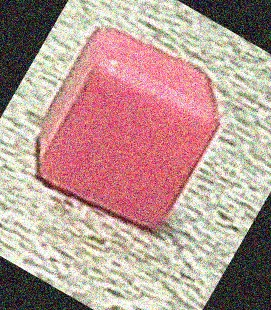red_cube: (34, 18, 229, 245)
